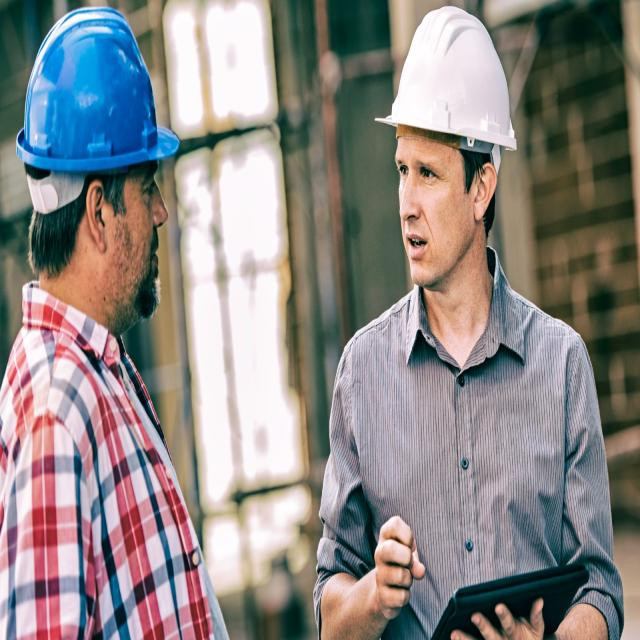Hard Hat: (16, 8, 190, 184), (376, 0, 522, 164)
